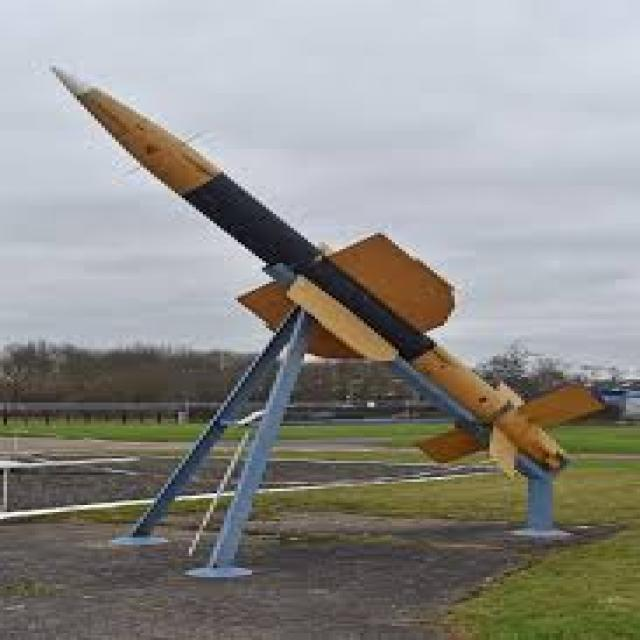missile: (45, 62, 585, 477)
